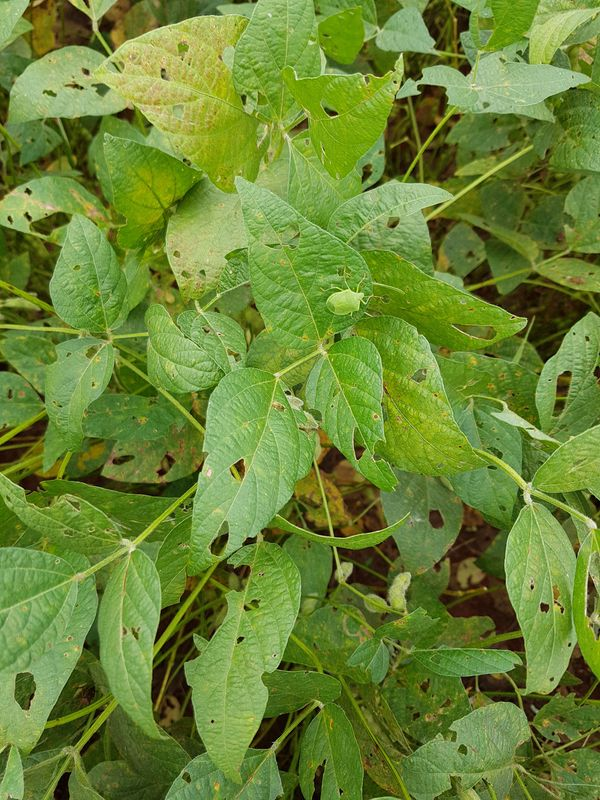Nezara_viridula_adulto: (317, 265, 378, 327)
